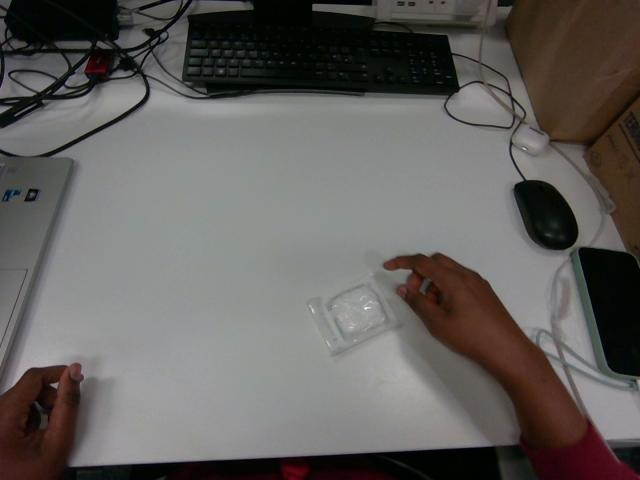gauze: (307, 274, 398, 354)
